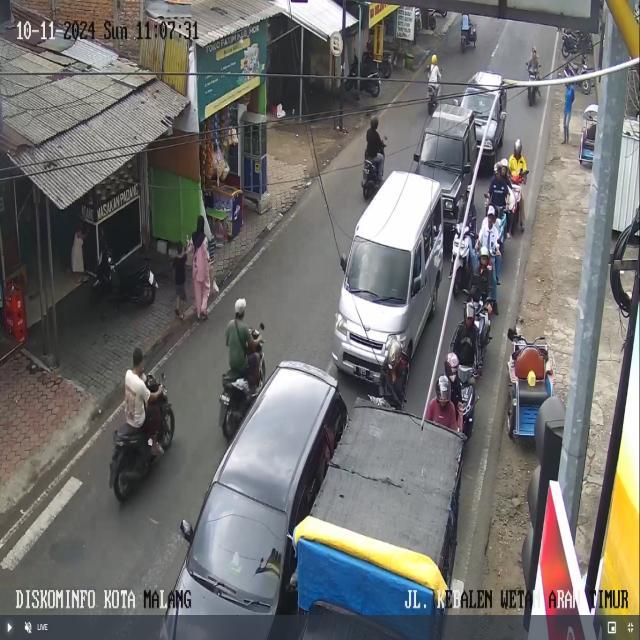Helmet: (385, 339, 401, 369), (436, 375, 450, 400), (445, 352, 458, 378), (235, 298, 246, 313), (465, 302, 475, 318), (527, 370, 535, 386), (487, 205, 496, 217), (514, 139, 521, 154), (480, 246, 489, 257), (370, 116, 378, 128), (499, 158, 508, 168), (493, 162, 499, 172), (431, 54, 437, 64), (531, 47, 536, 54)
Number Plate: (354, 366, 371, 379), (220, 395, 230, 405), (148, 272, 153, 284)
Rearview Mirror: (180, 519, 192, 542), (411, 276, 422, 296), (340, 254, 346, 271), (507, 328, 515, 340), (413, 153, 421, 163), (463, 164, 470, 173), (500, 111, 506, 120), (452, 98, 459, 105), (259, 322, 264, 330)
